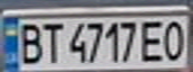1: (103, 18, 124, 63)
4: (63, 19, 87, 63)
7: (84, 19, 106, 63), (118, 18, 139, 63)
B: (15, 20, 45, 65)
E: (139, 17, 169, 64)
O: (160, 17, 190, 62)
T: (36, 20, 66, 64)
